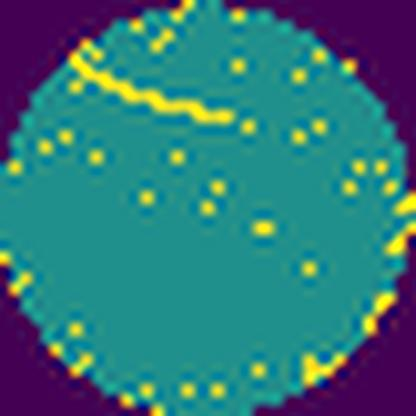Scratch: (67, 50, 239, 127)
